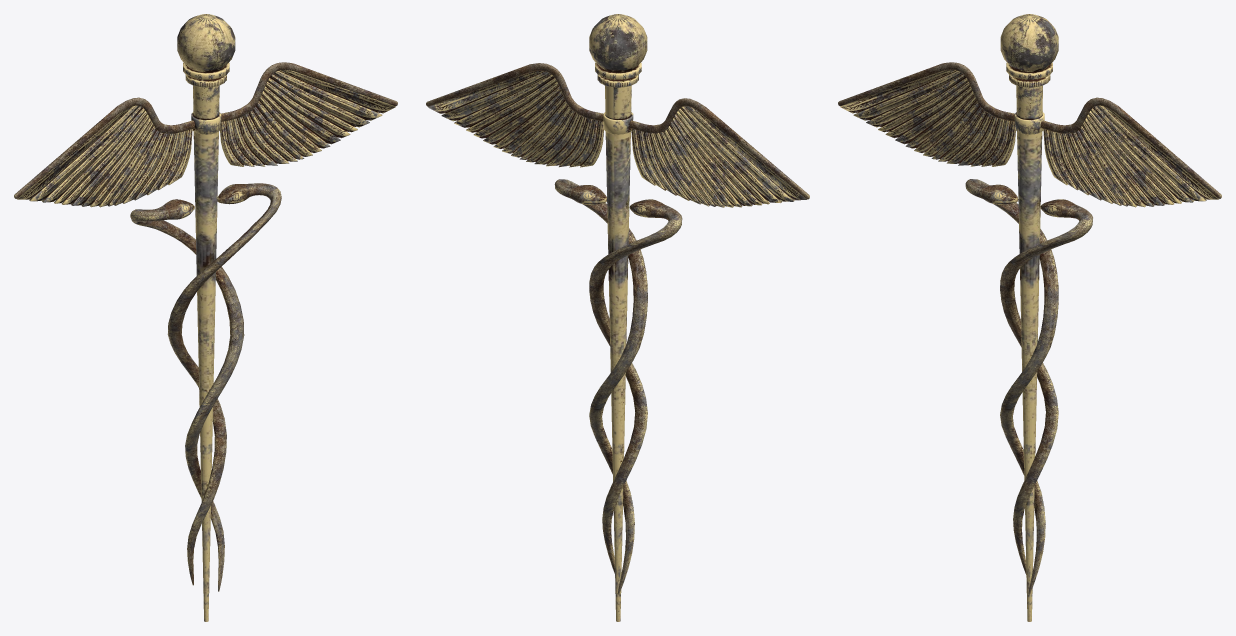
The model's file is old_caduceus_statuette.glb.
3 renders of one model, left to right at view 1: azimuth 30°, elevation 25°; view 2: azimuth 150°, elevation 25°; view 3: azimuth 330°, elevation 25°, orthographic.
Visible parts, largest first — view 1: Caduceus_Caduceus_0; view 2: Caduceus_Caduceus_0; view 3: Caduceus_Caduceus_0.
Boxes of the visible parts, left/top/right/bottom form: Caduceus_Caduceus_0: left=14, top=14, right=397, bottom=621; Caduceus_Caduceus_0: left=426, top=14, right=809, bottom=621; Caduceus_Caduceus_0: left=838, top=14, right=1221, bottom=621.
Size of the model in its own units: 74.07 by 112 by 12.35.
Materials: 1 (1 with a texture image).
